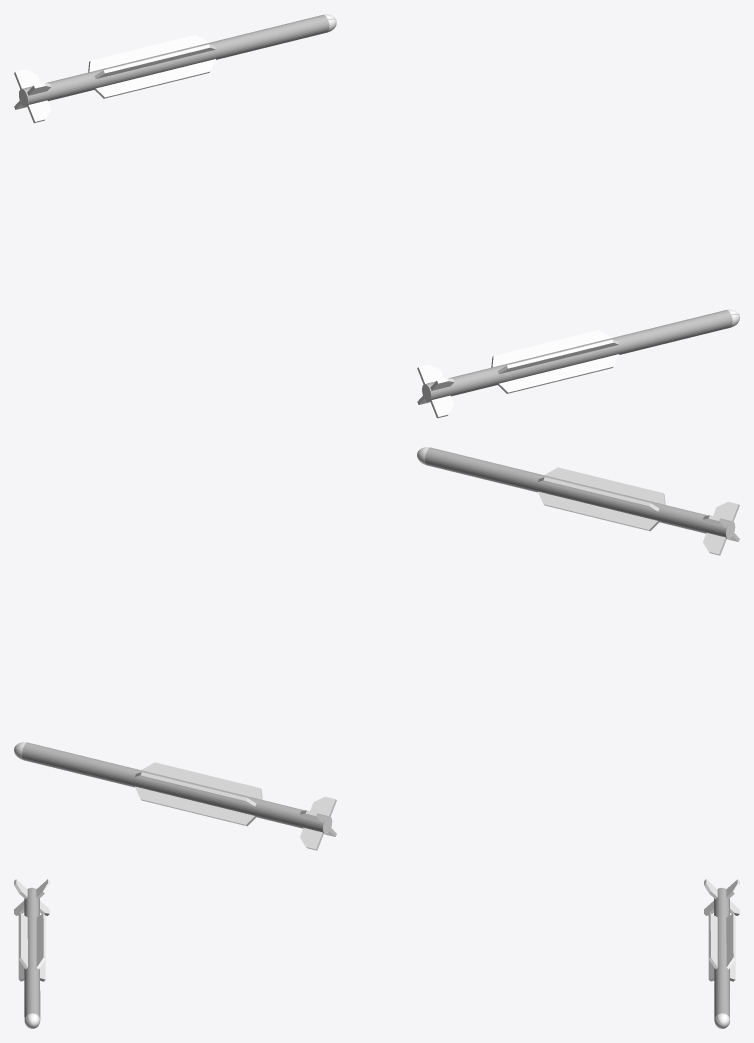
The model's file is aam5lf2a25.glb.
3 renders of one model, top to bottom at view 1: azimuth 30°, elevation 25°; view 2: azimuth 150°, elevation 25°; view 3: azimuth 270°, elevation 25°, orthographic. The views are drawn at different scales.
Parts seen in each view (by area): view 1: 円柱.006, 円柱.003; view 2: 円柱.006, 円柱.003; view 3: 円柱.006, 円柱.003.
Boxes of the visible parts, x1,y1,x2,y2 form: 円柱.006: (417,309,739,418); 円柱.003: (14,14,336,123); 円柱.006: (417,447,739,555); 円柱.003: (14,742,336,850); 円柱.006: (14,879,49,1028); 円柱.003: (704,879,739,1028).
Bounding box in the file's own units: 4.09 × 0.477 × 9.61.
Materials: 3 (1 with a texture image).
